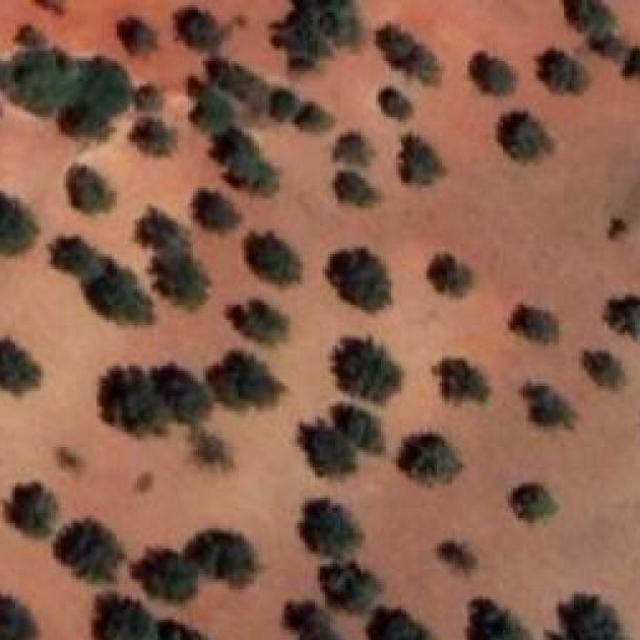Tree: (271, 0, 361, 68), (0, 49, 83, 117), (61, 51, 126, 136), (193, 526, 259, 602), (330, 339, 402, 405), (99, 366, 164, 436), (212, 127, 278, 195), (206, 351, 284, 408), (325, 249, 392, 313), (56, 518, 125, 580), (152, 362, 214, 423), (150, 247, 210, 310), (376, 26, 441, 84), (86, 267, 152, 323), (302, 501, 364, 560), (296, 420, 356, 476), (559, 594, 631, 640), (396, 434, 462, 484), (3, 482, 59, 538), (137, 546, 193, 602), (468, 596, 538, 640), (323, 562, 382, 614), (96, 591, 158, 640), (244, 232, 301, 284), (226, 300, 288, 346), (498, 111, 552, 162), (333, 404, 383, 453), (0, 338, 42, 396), (0, 190, 38, 254), (66, 166, 116, 214), (284, 604, 350, 640), (434, 359, 488, 402), (191, 86, 238, 134), (526, 384, 577, 428), (536, 49, 588, 92), (176, 8, 223, 55), (401, 134, 443, 185), (366, 609, 435, 640), (132, 206, 181, 248), (511, 305, 561, 345), (564, 0, 618, 37), (191, 425, 234, 471), (46, 237, 93, 279), (129, 117, 178, 155), (193, 192, 239, 232), (511, 483, 558, 521), (430, 254, 471, 297), (475, 54, 516, 95), (0, 592, 35, 640), (333, 130, 377, 168), (609, 294, 640, 340), (584, 351, 621, 389), (122, 18, 158, 57), (155, 619, 219, 640), (337, 173, 376, 206), (295, 102, 335, 132), (437, 543, 476, 571), (269, 89, 300, 123), (379, 89, 410, 122), (135, 86, 165, 113), (56, 450, 82, 470), (609, 218, 629, 241)
